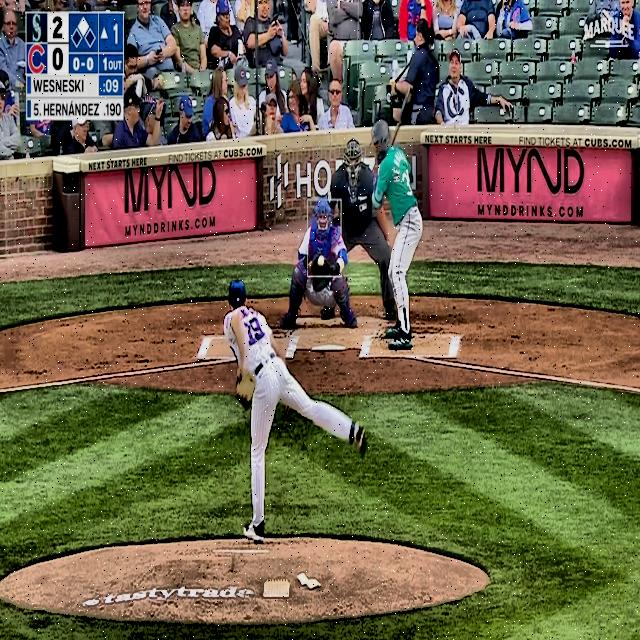baseball: (318, 255, 324, 266)
